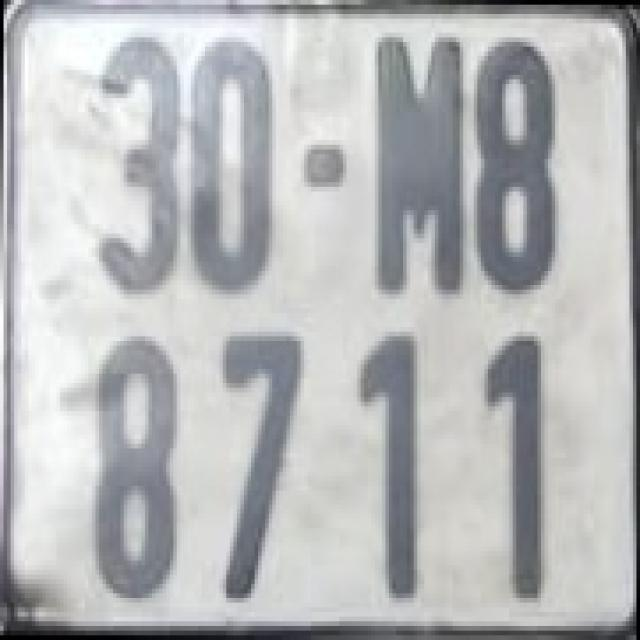0: (191, 33, 276, 294)
1: (354, 327, 432, 598), (480, 332, 556, 598)
3: (99, 33, 184, 294)
7: (212, 327, 304, 603)
8: (92, 327, 184, 598), (473, 33, 562, 294)
M: (370, 23, 464, 304)
